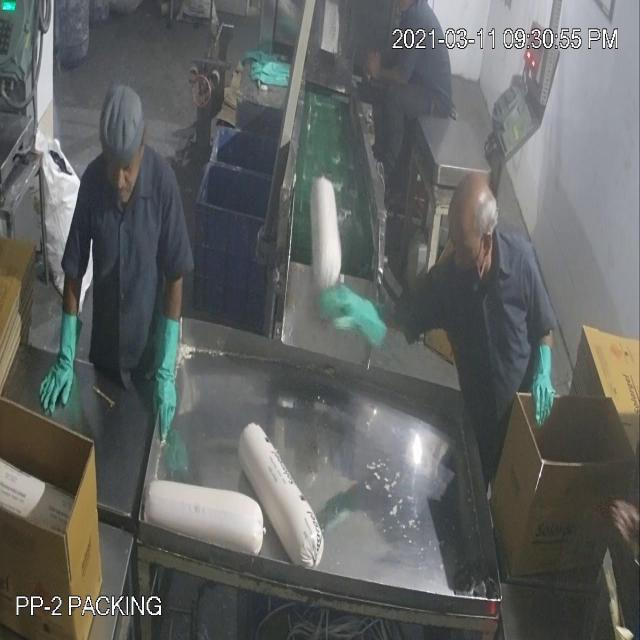Gloves: (31, 94, 546, 386)
